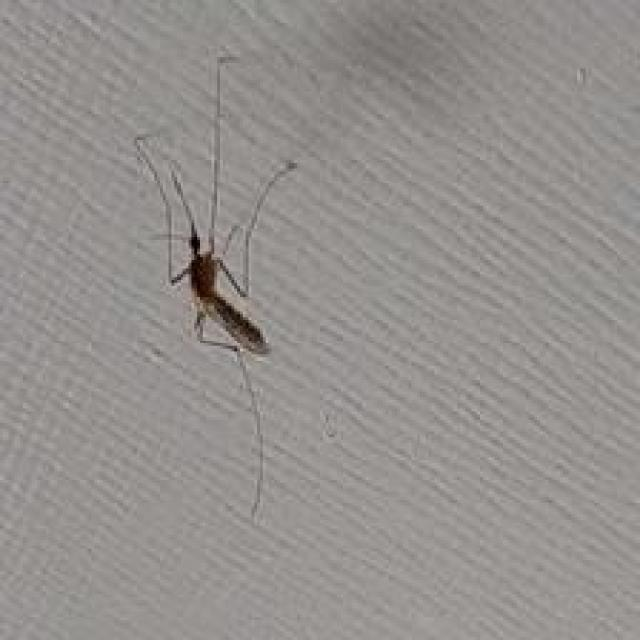Culex: (130, 44, 301, 522)
